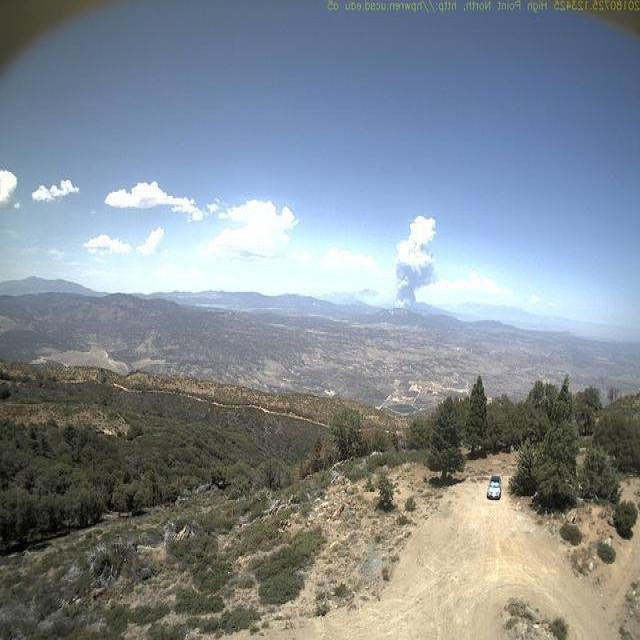Smoke: (389, 212, 446, 306)
